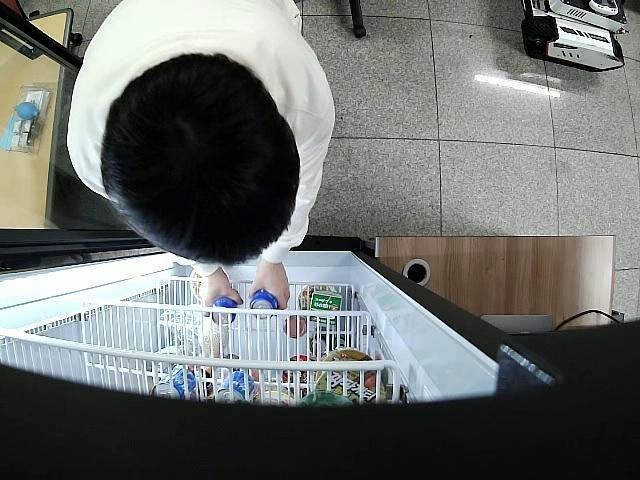13_pocariSweat: (210, 295, 240, 326), (250, 288, 280, 318)
